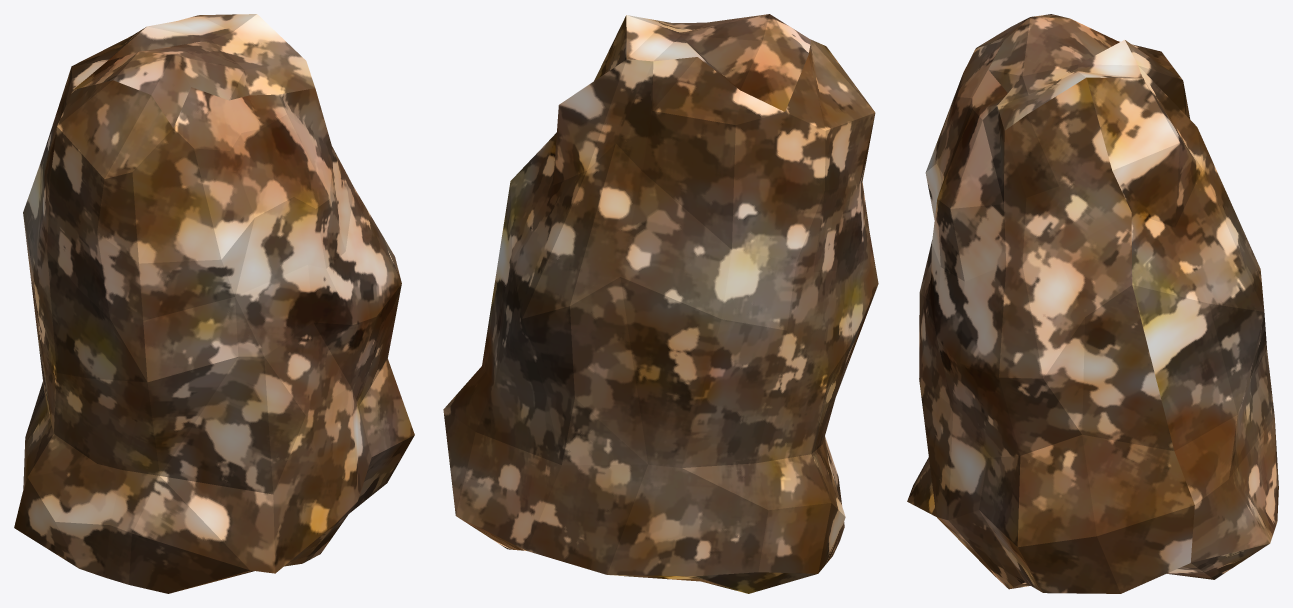
The model's file is bigstone.fbx.
3 views of the same model, side by side, from view 1: azimuth 30°, elevation 25°; view 2: azimuth 150°, elevation 25°; view 3: azimuth 270°, elevation 25° (orthographic). The views are drawn at different scales.
Parts seen in each view (by area): view 1: wool1; view 2: wool1; view 3: wool1.
Boxes of the visible parts, box(x1,y1,x2,y2) form: wool1: box(14, 14, 414, 593); wool1: box(443, 14, 878, 593); wool1: box(907, 14, 1278, 593).
Bounding box in the file's own units: 2220 × 3229 × 2138.
